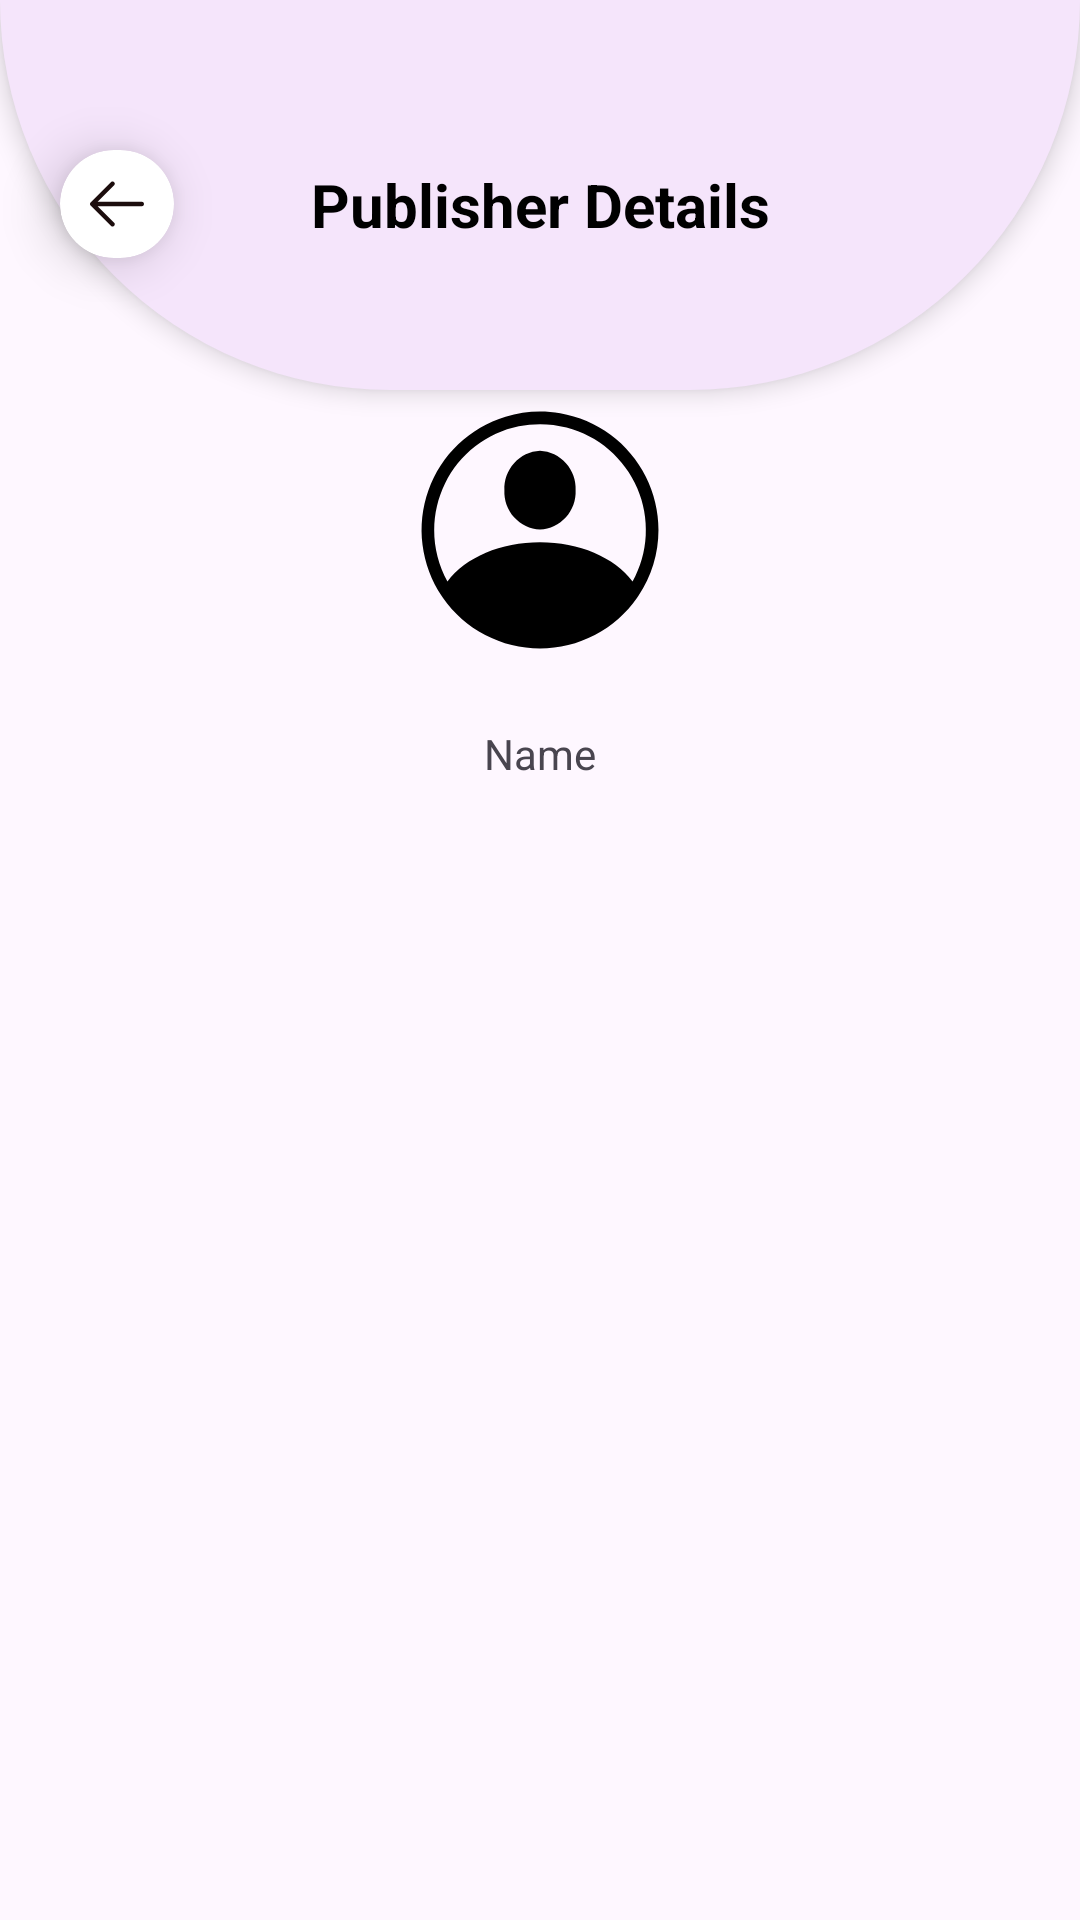

Screen size 1080 x 1920. Icon name, then its center in pixels as (x,y):
back: (117,204)
profile: (540,530)
